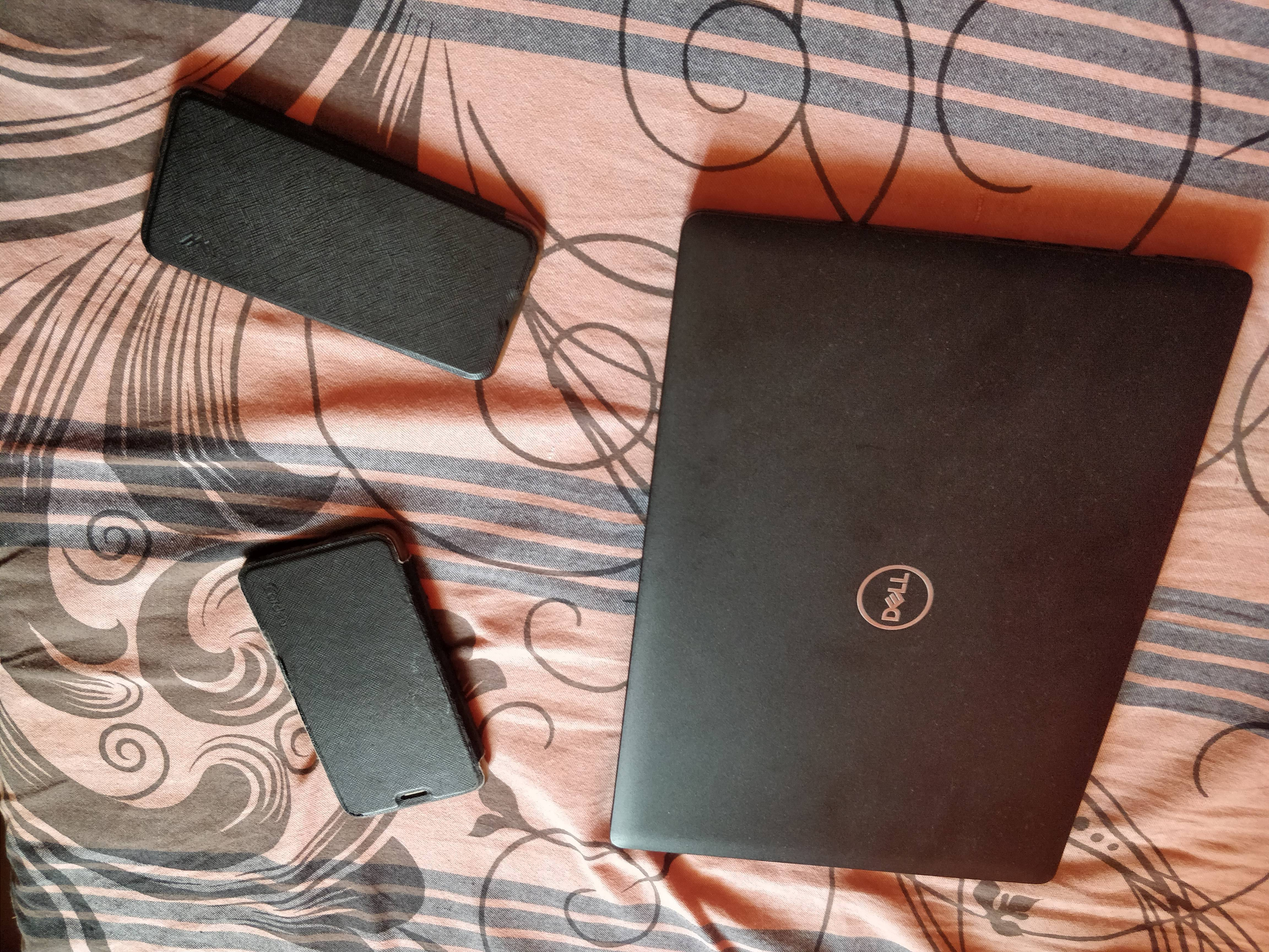Electronics: (574, 180, 1269, 902), (119, 38, 561, 415), (222, 506, 509, 829)
